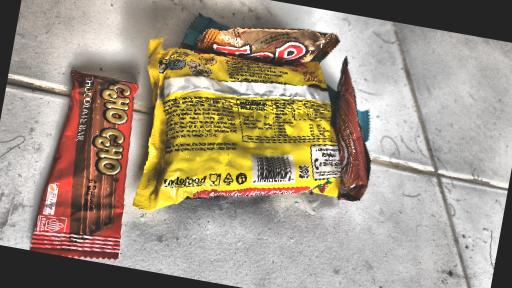chocho: (21, 53, 147, 265)
indomie: (135, 30, 451, 249)
